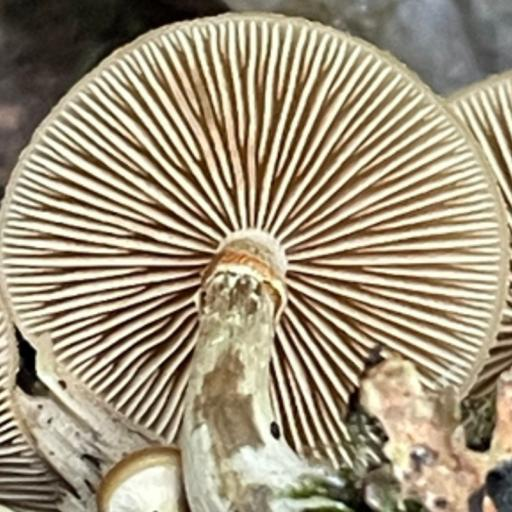mushroom: (9, 16, 505, 469)
